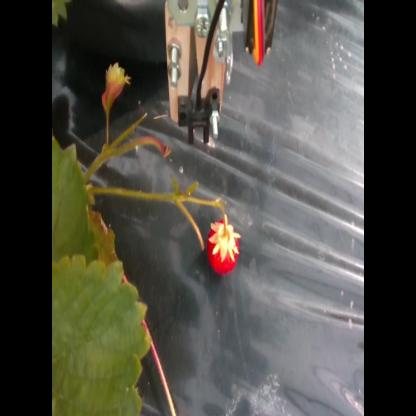ripe: (201, 212, 245, 278)
